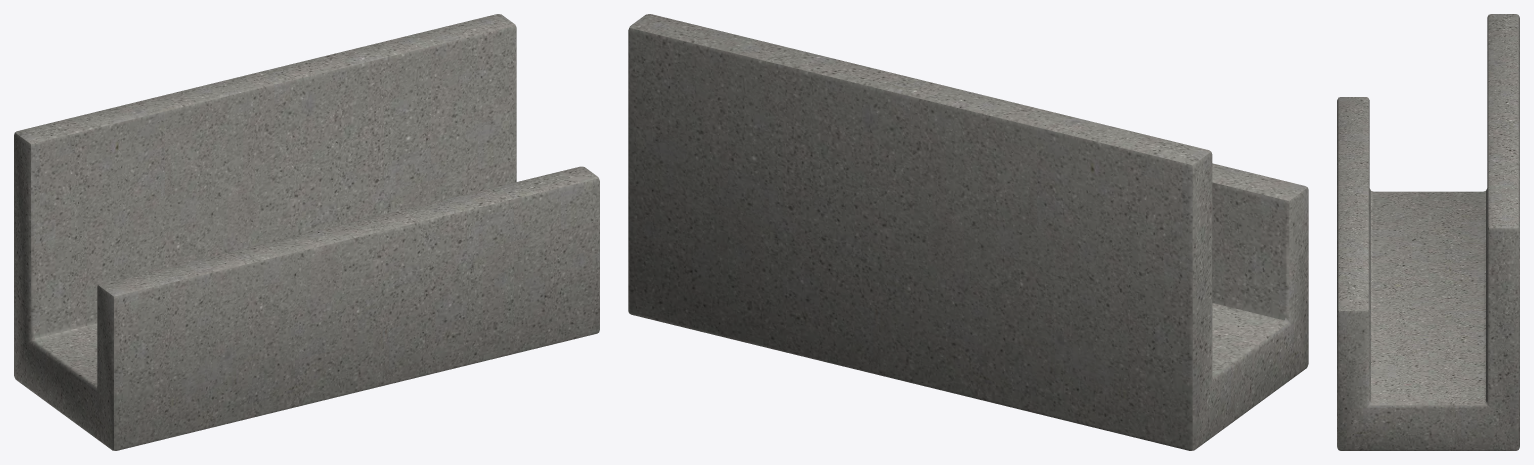
File: ALV-BCO-004.glb
The picture shows the model from 3 angles, left to right: view 1: azimuth 30°, elevation 25°; view 2: azimuth 150°, elevation 25°; view 3: azimuth 270°, elevation 25°; orthographic projection. The views are drawn at different scales.
Parts seen in each view (by area): view 1: ALV-BCO-004_peca; view 2: ALV-BCO-004_peca; view 3: ALV-BCO-004_peca.
Part boxes in pixels (x1,y1,x2,y2): ALV-BCO-004_peca: [14, 14, 599, 450]; ALV-BCO-004_peca: [628, 14, 1308, 450]; ALV-BCO-004_peca: [1337, 14, 1519, 450].
Size of the model in its own units: 0.39 by 0.19 by 0.14.
Materials: 1 (1 with a texture image).
